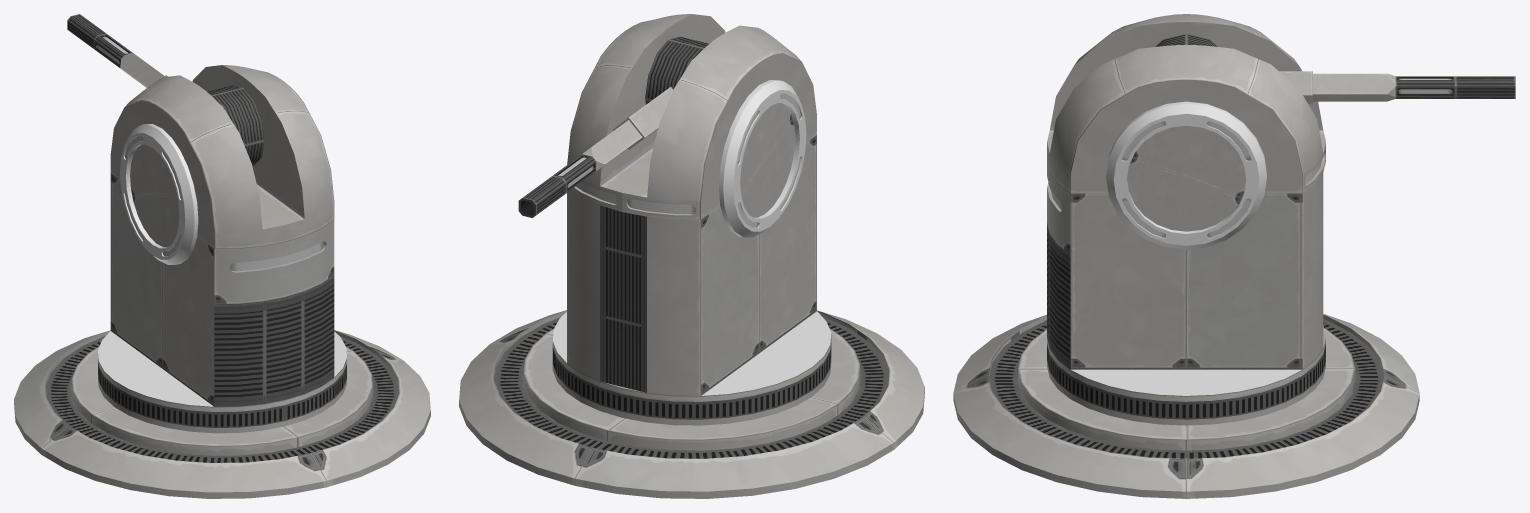
The model's file is turret.fbx.
3 renders of one model, left to right at view 1: azimuth 30°, elevation 25°; view 2: azimuth 150°, elevation 25°; view 3: azimuth 270°, elevation 25°, orthographic. The views are drawn at different scales.
Parts seen in each view (by area): view 1: body, base, canon; view 2: body, base, canon; view 3: body, base, canon.
Part boxes in pixels (box(x1,y1,x2,y2)): body: box(98, 65, 346, 433); base: box(14, 330, 430, 498); canon: box(67, 14, 264, 166); body: box(552, 14, 831, 425); base: box(459, 310, 924, 498); canon: box(518, 36, 708, 217); body: box(1047, 14, 1325, 425); base: box(953, 314, 1419, 498); canon: box(1155, 34, 1515, 103).
Bounding box in the file's own units: 150 × 130 × 181.
